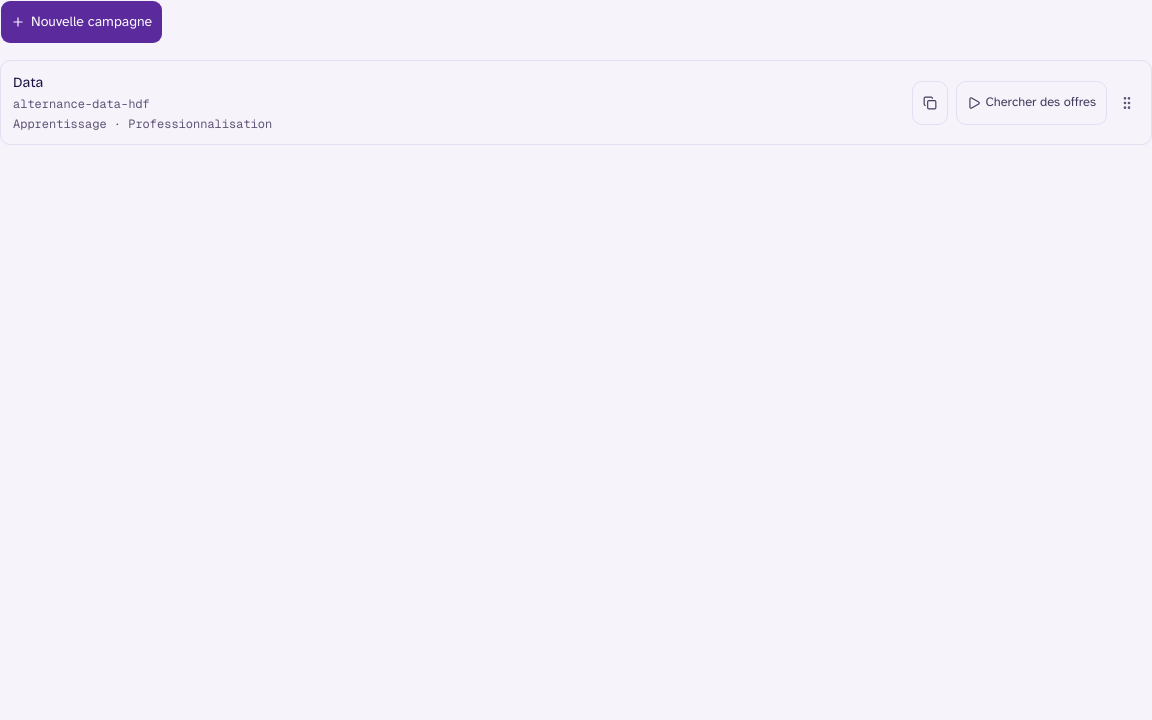
Test: CampaignsManager › opens a pre-filled 'new campaign' dialog from 'Dupliquer', keeping it a create (not an edit)
Click the button named "Dupliquer Data": click(930, 103) 912,81 -> 948,125
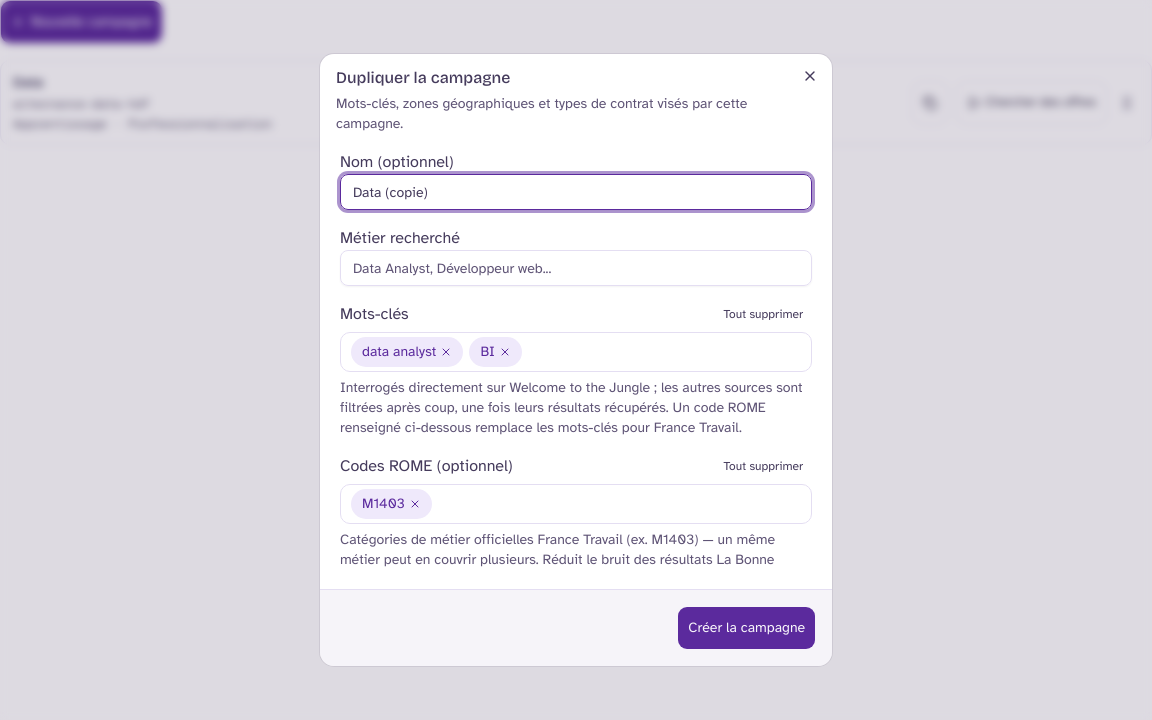
Check: the heading "Dupliquer la campagne" is shown, box 336,68 -> 510,87
Check: the field labelled "Nom (optionnel)" holds "Data (copie)", box 340,174 -> 812,210
Check: the text "data analyst" is shown, box 351,337 -> 463,367
